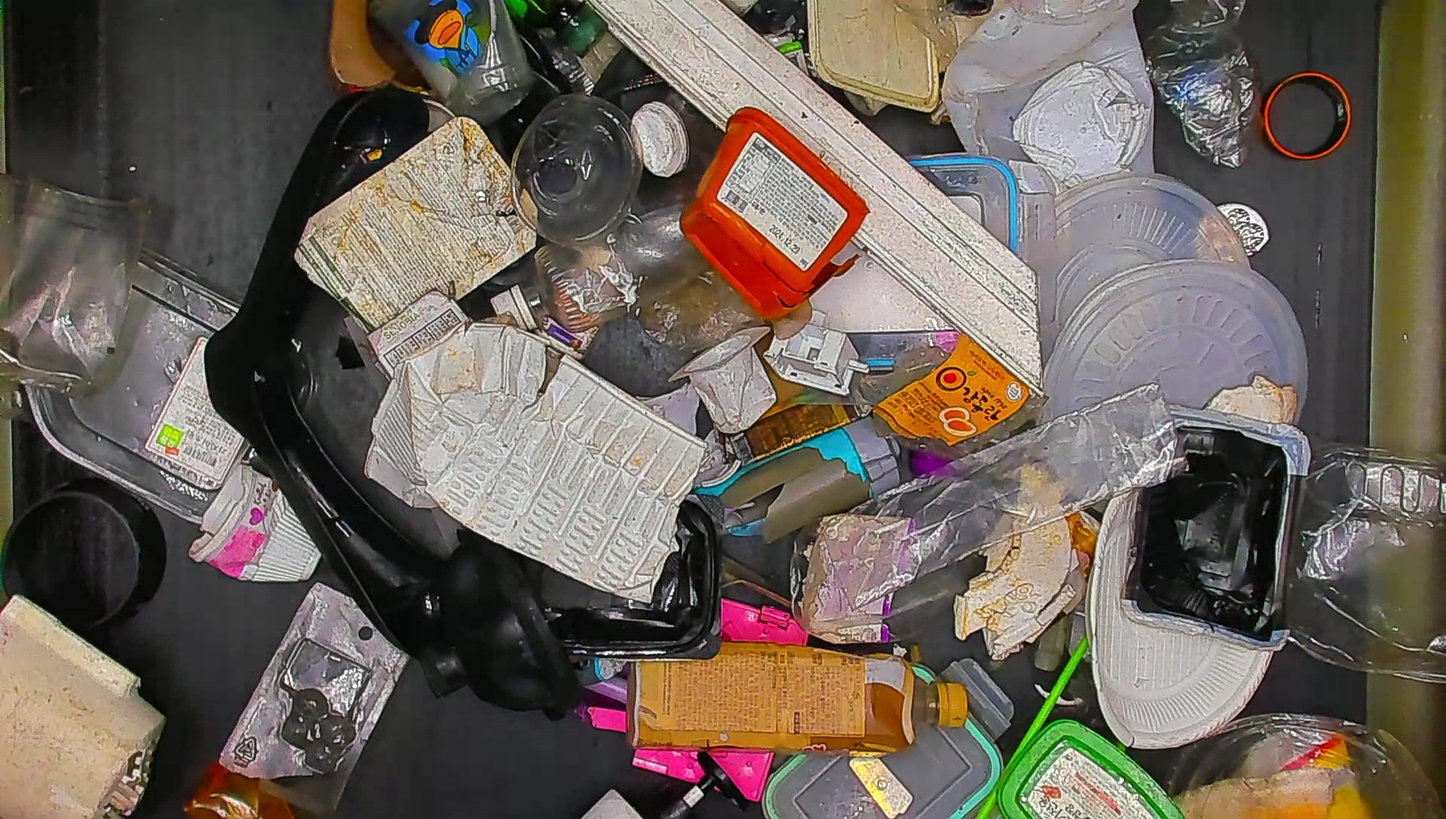PET: (627, 643, 969, 756), (491, 202, 712, 333), (1142, 1, 1263, 170)
PET-C: (26, 245, 277, 525), (1280, 443, 1445, 687), (0, 172, 151, 399), (1163, 711, 1445, 818), (368, 0, 534, 125), (510, 93, 644, 247)
PP-B: (1119, 424, 1304, 653)
PS-W: (364, 319, 710, 604), (1011, 61, 1149, 189), (189, 459, 323, 582), (668, 326, 777, 434), (726, 404, 876, 467)
